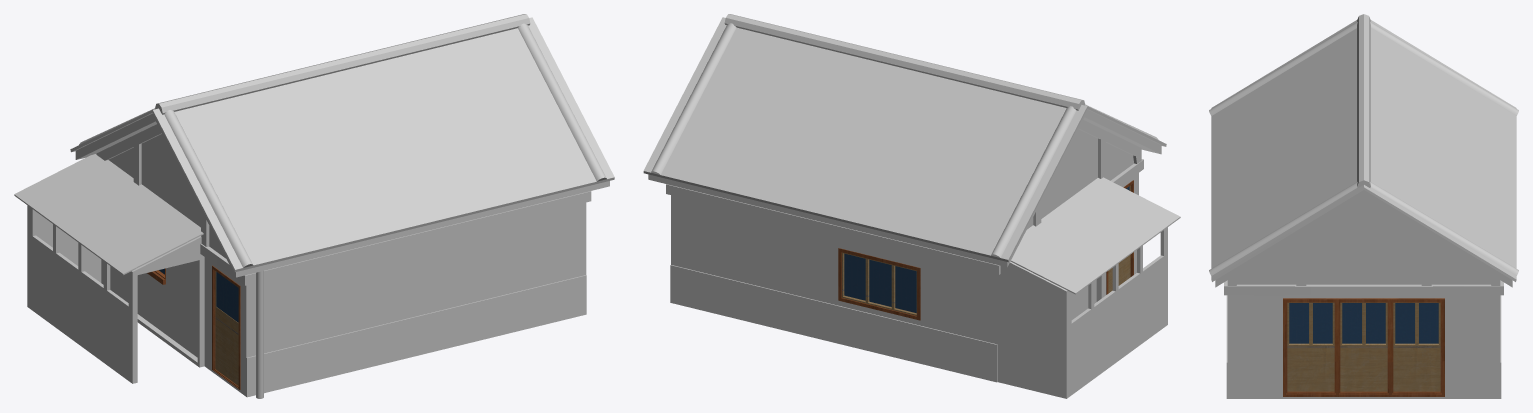
File: House2-4.fbx
3 renders of one model, left to right at view 1: azimuth 30°, elevation 25°; view 2: azimuth 150°, elevation 25°; view 3: azimuth 270°, elevation 25°, orthographic. The views are drawn at different scales.
Parts seen in each view (by area): view 1: House2-4; view 2: House2-4; view 3: House2-4.
Boxes of the visible parts, left/top/right/bottom form: House2-4: left=14, top=14, right=614, bottom=398; House2-4: left=643, top=14, right=1180, bottom=398; House2-4: left=1209, top=14, right=1518, bottom=398.
Bounding box in the file's own units: 521 × 273 × 341.
